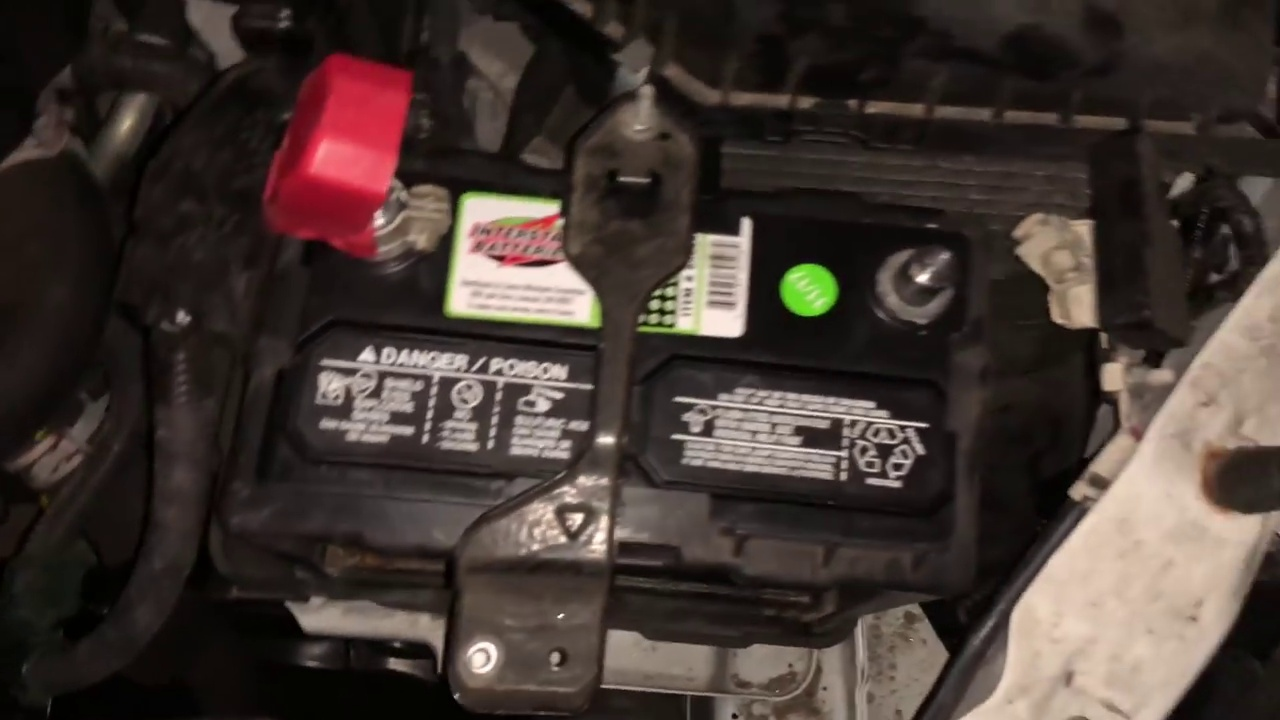battery: (257, 120, 961, 568)
neg_disconnected: (847, 211, 982, 338)
pos_connected: (253, 123, 471, 284)
